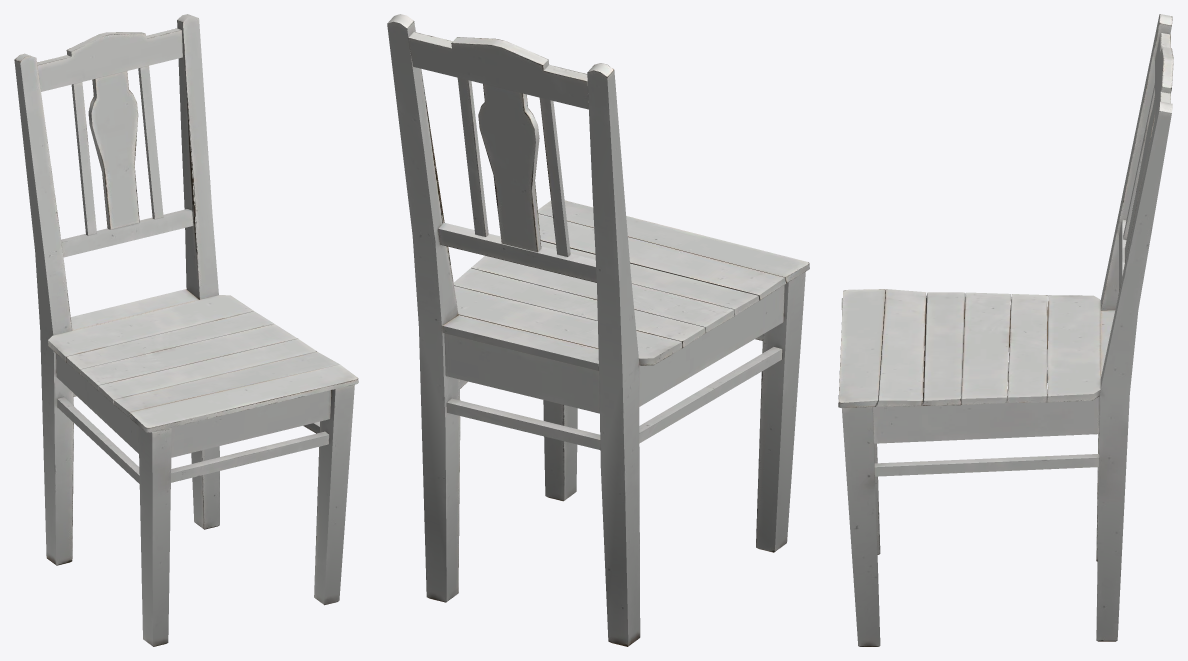
The model's file is painted_wooden_chair_01.glb.
3 renders of one model, left to right at view 1: azimuth 30°, elevation 25°; view 2: azimuth 150°, elevation 25°; view 3: azimuth 270°, elevation 25°, orthographic. The views are drawn at different scales.
Parts seen in each view (by area): view 1: painted_wooden_chair_01; view 2: painted_wooden_chair_01; view 3: painted_wooden_chair_01.
Part boxes in pixels (x1,y1,x2,y2): painted_wooden_chair_01: (14,14,358,646); painted_wooden_chair_01: (387,14,809,646); painted_wooden_chair_01: (838,14,1173,646).
Size of the model in its own units: 0.4298 by 0.9558 by 0.5384.
1 material, 1 textured.
